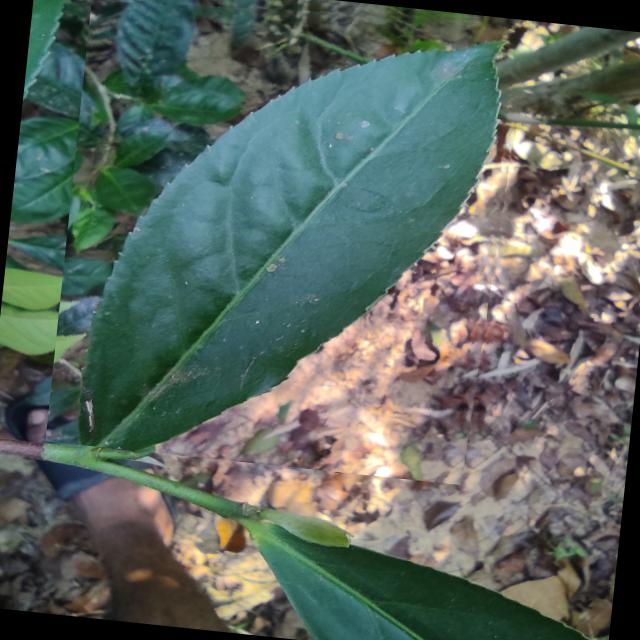Category D 7+ days, Not for Tea: (43, 0, 529, 486)
